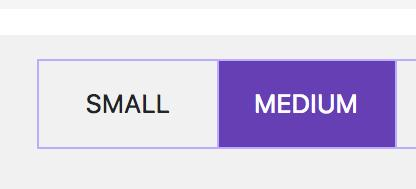button: (32, 57, 223, 151), (215, 57, 398, 151)
